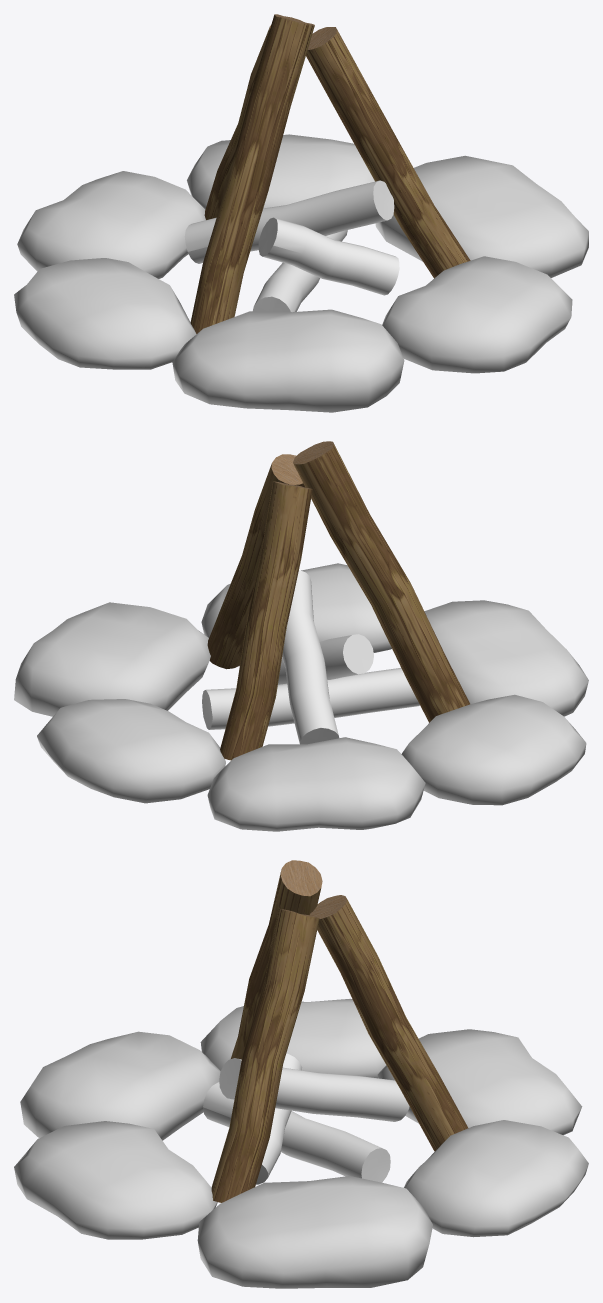
The model's file is Bonfire.fbx.
3 renders of one model, top to bottom at view 1: azimuth 30°, elevation 25°; view 2: azimuth 150°, elevation 25°; view 3: azimuth 270°, elevation 25°, orthographic. The views are drawn at different scales.
Parts seen in each view (by area): view 1: Cube.003; view 2: Cube.003; view 3: Cube.003.
Boxes of the visible parts, <box> form: Cube.003: <box>14,14,588,412</box>; Cube.003: <box>14,441,588,831</box>; Cube.003: <box>14,860,588,1288</box>.
Size of the model in its own units: 370 by 202 by 344.
